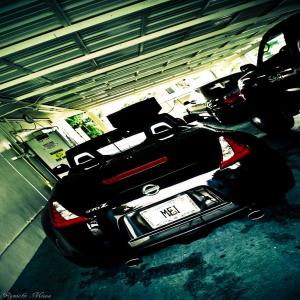Vehicle-registration-plate: (141, 195, 202, 230)
